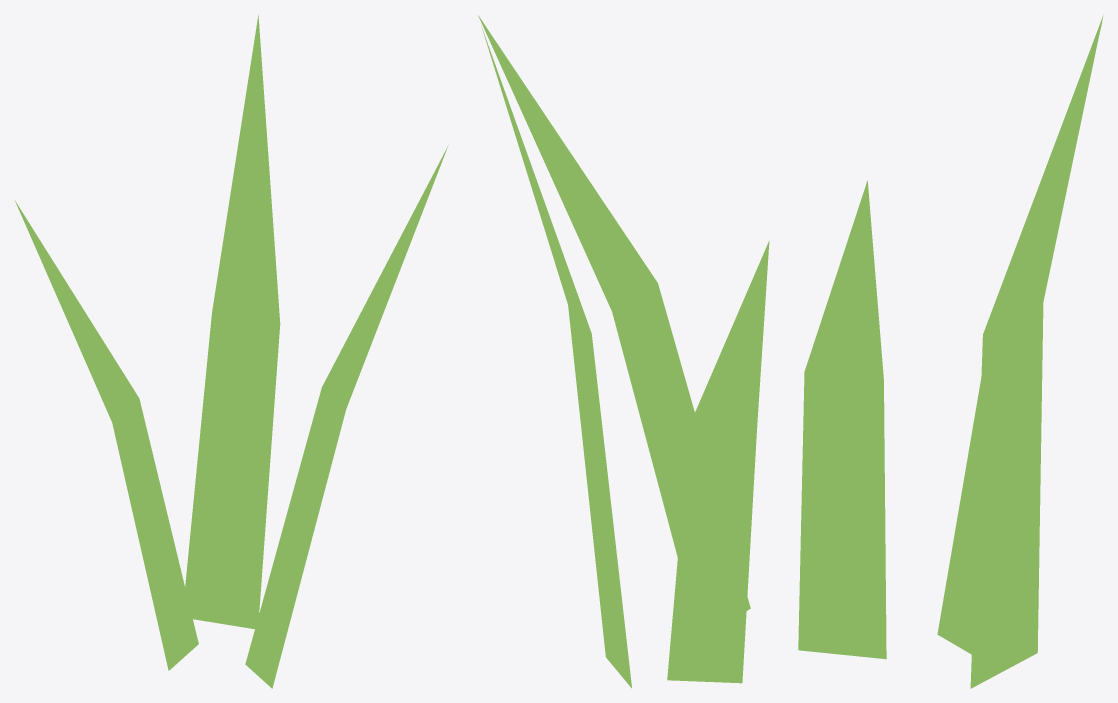
File: Grass_a_OneS_02.fbx
The picture shows the model from 3 angles, left to right: view 1: azimuth 30°, elevation 25°; view 2: azimuth 150°, elevation 25°; view 3: azimuth 270°, elevation 25°; orthographic projection. The views are drawn at different scales.
Visible parts, largest first — view 1: Grass_a_OneS_02; view 2: Grass_a_OneS_02; view 3: Grass_a_OneS_02.
Boxes of the visible parts, <box> form: Grass_a_OneS_02: <box>14,14,448,688</box>; Grass_a_OneS_02: <box>478,15,769,688</box>; Grass_a_OneS_02: <box>798,15,1103,688</box>.
Bounding box in the file's own units: 0.3735 × 0.597 × 0.2308.
